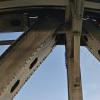Bridge: (5, 4, 97, 73)
